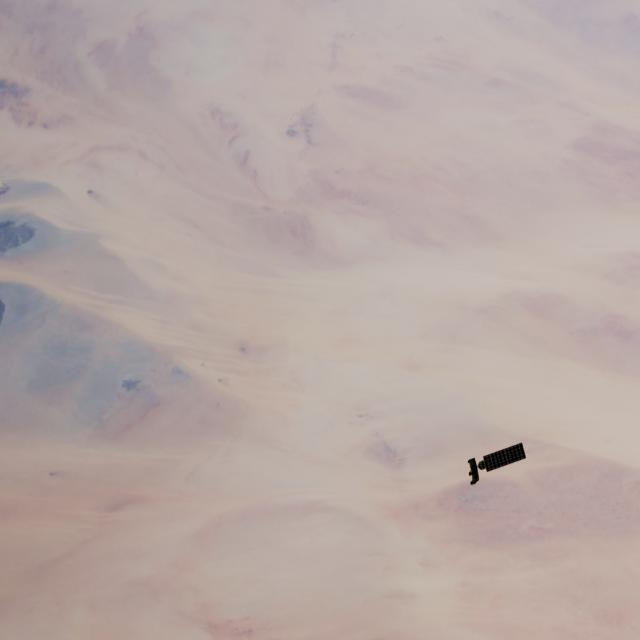satellite: (439, 436, 528, 508)
